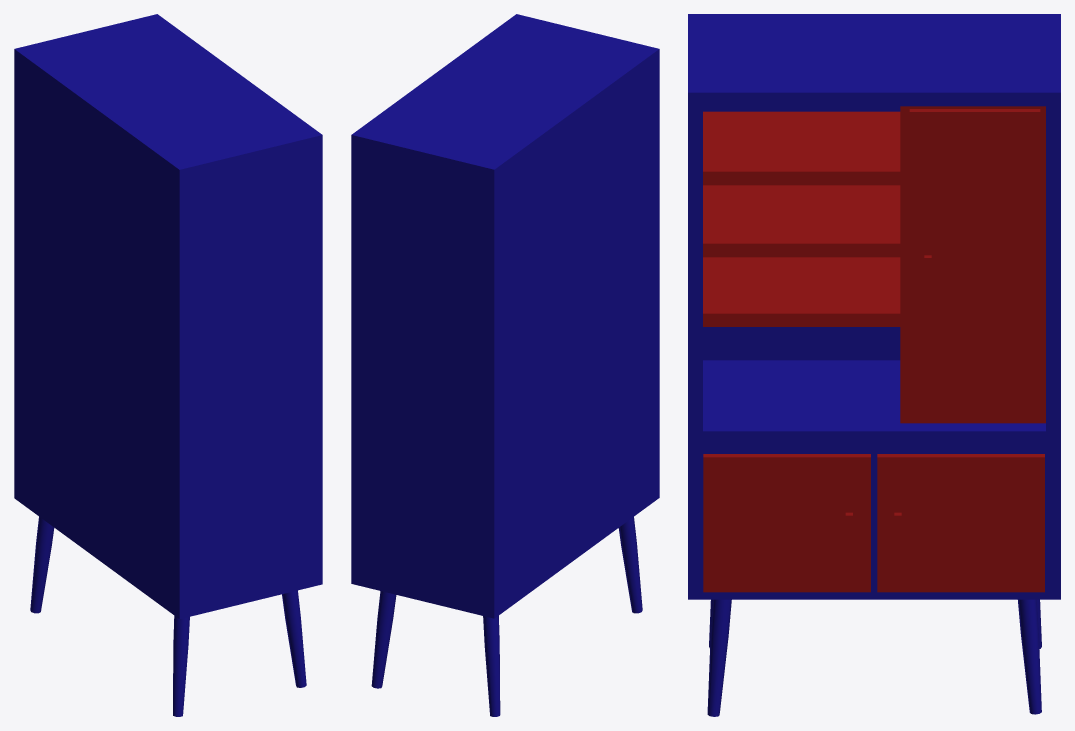
File: SM_Armoire.FBX
3 views of the same model, side by side, from view 1: azimuth 30°, elevation 25°; view 2: azimuth 150°, elevation 25°; view 3: azimuth 270°, elevation 25° (orthographic). The views are drawn at different scales.
Parts seen in each view (by area): view 1: SM_Armoire; view 2: SM_Armoire; view 3: SM_Armoire.
Part boxes in pixels (bbox=[...]): SM_Armoire: bbox=[14, 14, 322, 716]; SM_Armoire: bbox=[351, 14, 659, 716]; SM_Armoire: bbox=[688, 14, 1060, 716].
Size of the model in its own units: 54.07 by 186 by 100.
